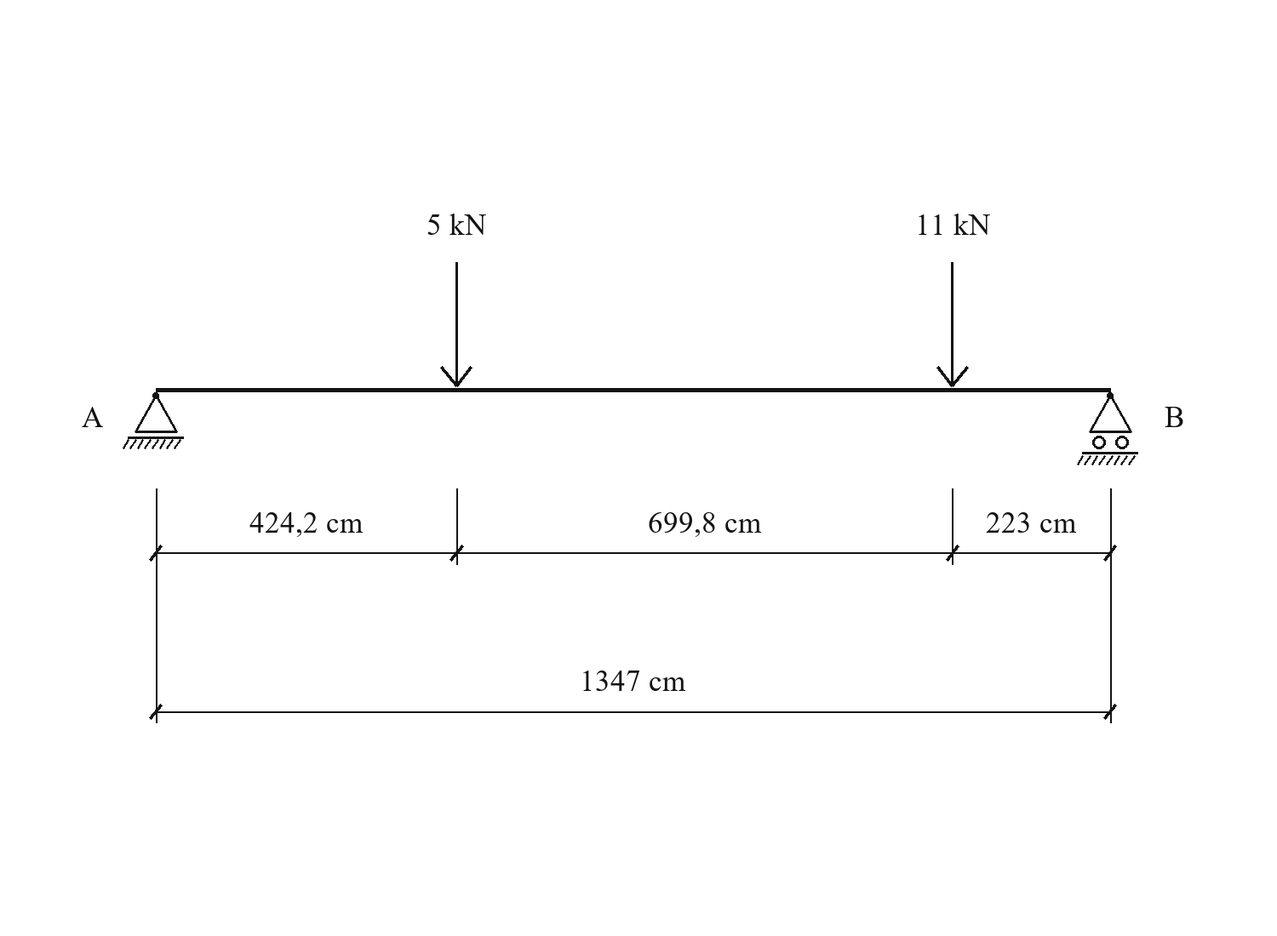pin_support: (123, 392, 184, 449)
point_load: (936, 262, 969, 387), (440, 262, 472, 387)
roller_support: (1077, 392, 1138, 465)
